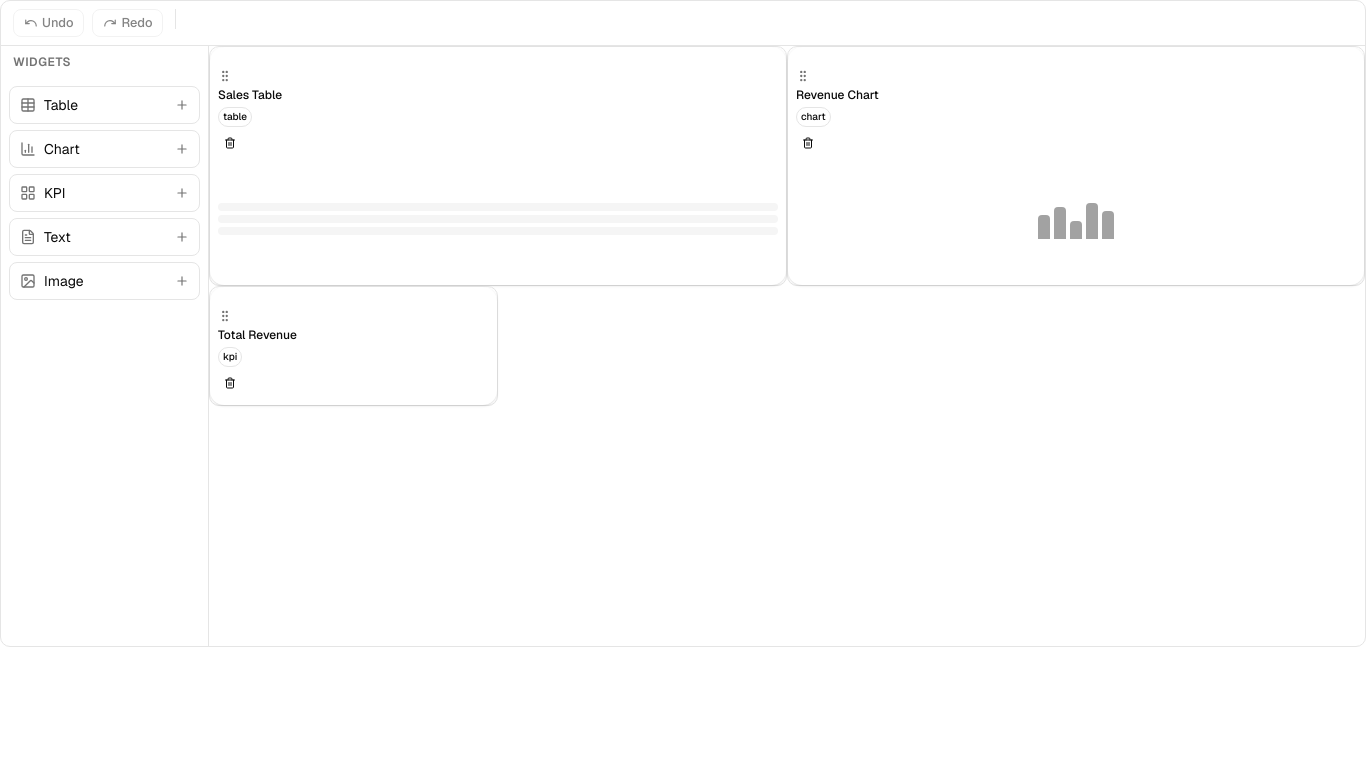
Test case: ReportBuilder › selecting widget shows property panel
Click the element with test id "delete-widget-w1": x=498, y=166 [209, 46, 787, 286]
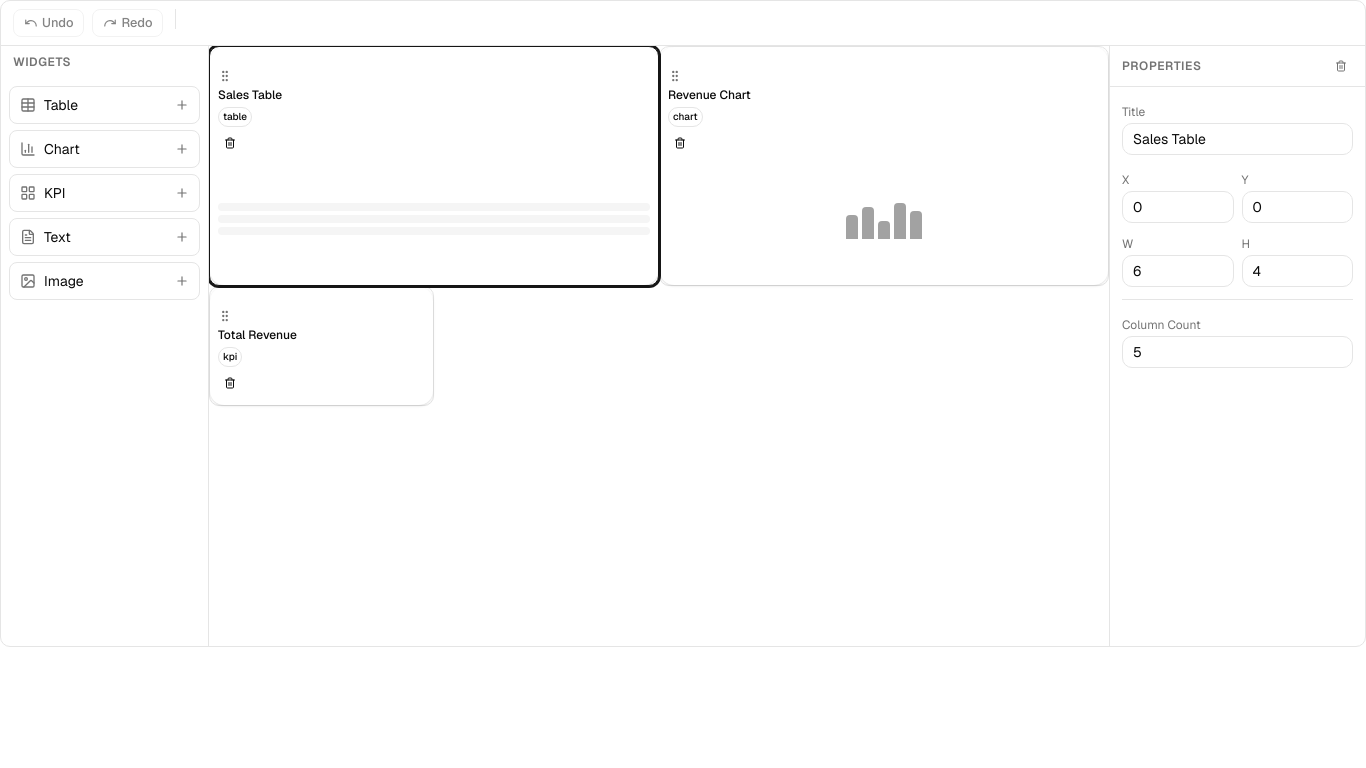
Expected: the field with test id "property-title" is shown, [1122, 123, 1353, 155]
Expected: the number field with test id "property-x" is shown, [1122, 191, 1234, 223]
Expected: the number field with test id "property-y" is shown, [1242, 191, 1353, 223]
